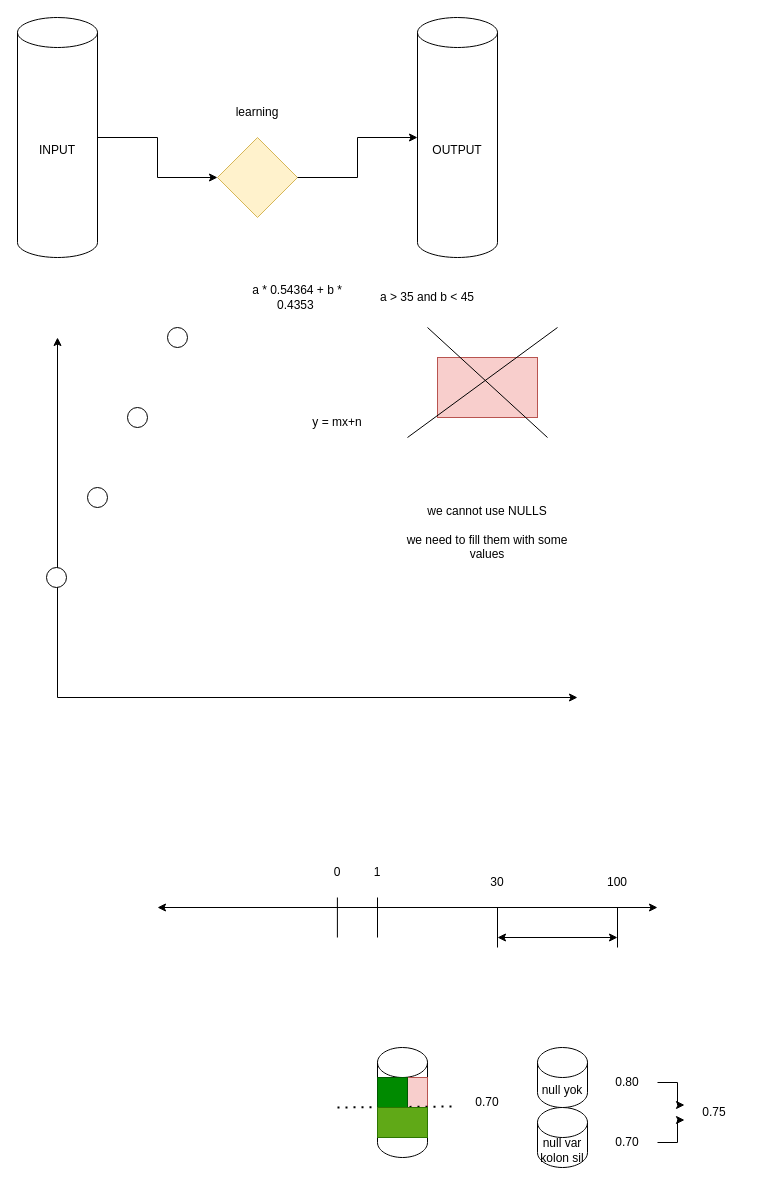
The diagram is 762 pixels wide and 1185 high, and some of its shapes have lost their labels. Each missing label, with the centre of its shape:
"function formula system" belongs at pixel 257 177.
"null < 35?" belongs at pixel 487 387.
